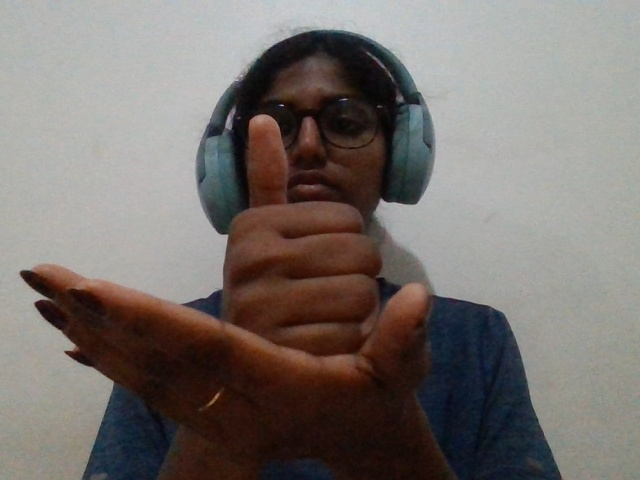Help: (5, 106, 549, 480)
